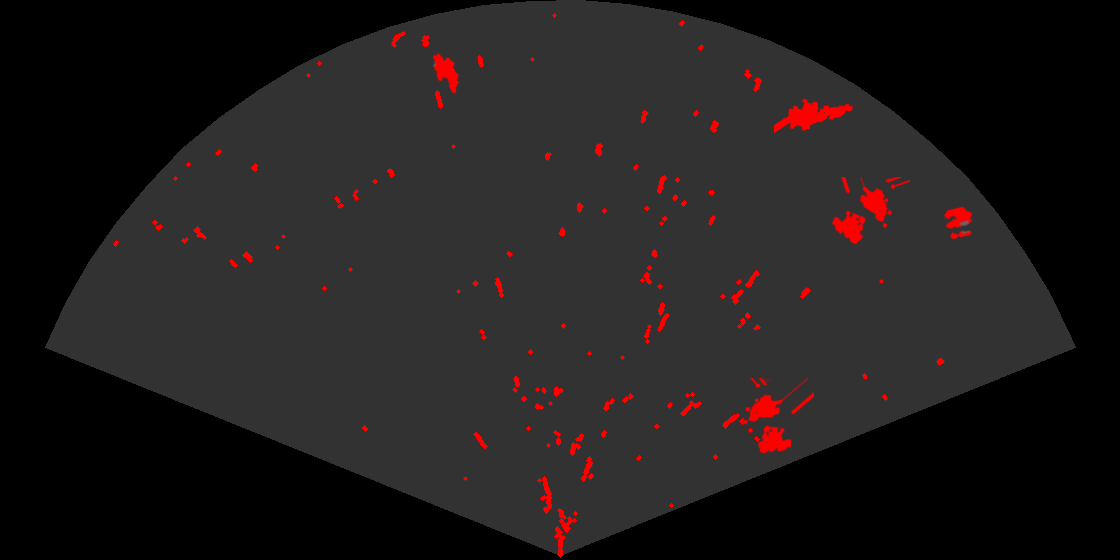AUV: (431, 51, 461, 95)
ball: (942, 205, 974, 241)
cage: (742, 378, 814, 455), (830, 177, 910, 246)
frogman: (774, 97, 854, 135)
